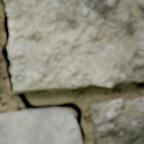brick: (5, 0, 143, 92), (0, 109, 81, 143), (91, 98, 143, 143)
crack: (0, 2, 84, 141)
